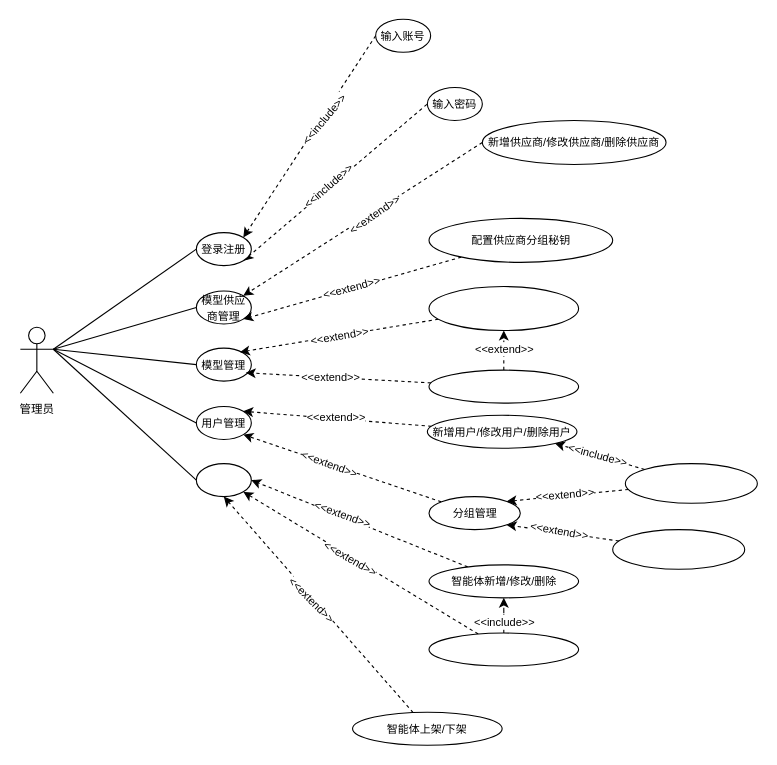
Some shapes in this 777 by 765 pixel diagram are drawn without their labels. Here are the shapes that lost their labels. From the top down, the centre of each, then its label:
(x=503, y=308): 新增模型/修改模型/删除模型
(x=503, y=386): 配置模型可用分组
(x=223, y=480): 智能体 管理
(x=690, y=483): 配置用户的分组
(x=678, y=549): 新增/修改/删除用户分组
(x=503, y=649): 智能体权限配置
